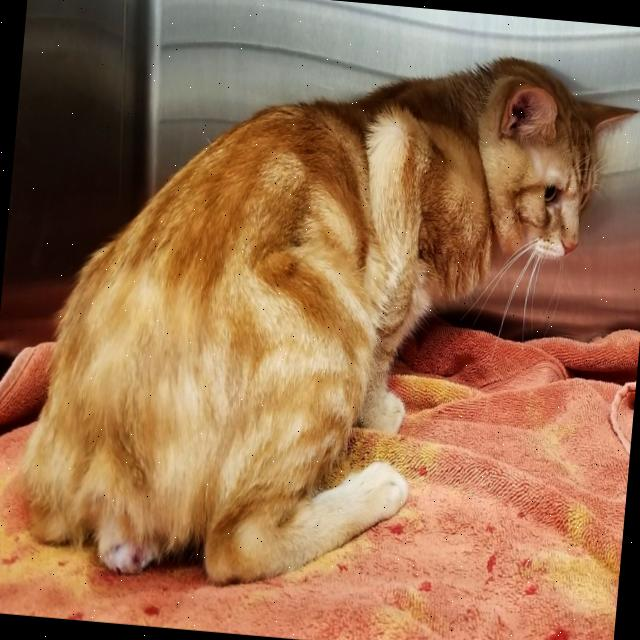manx_cat: (478, 55, 640, 288)
